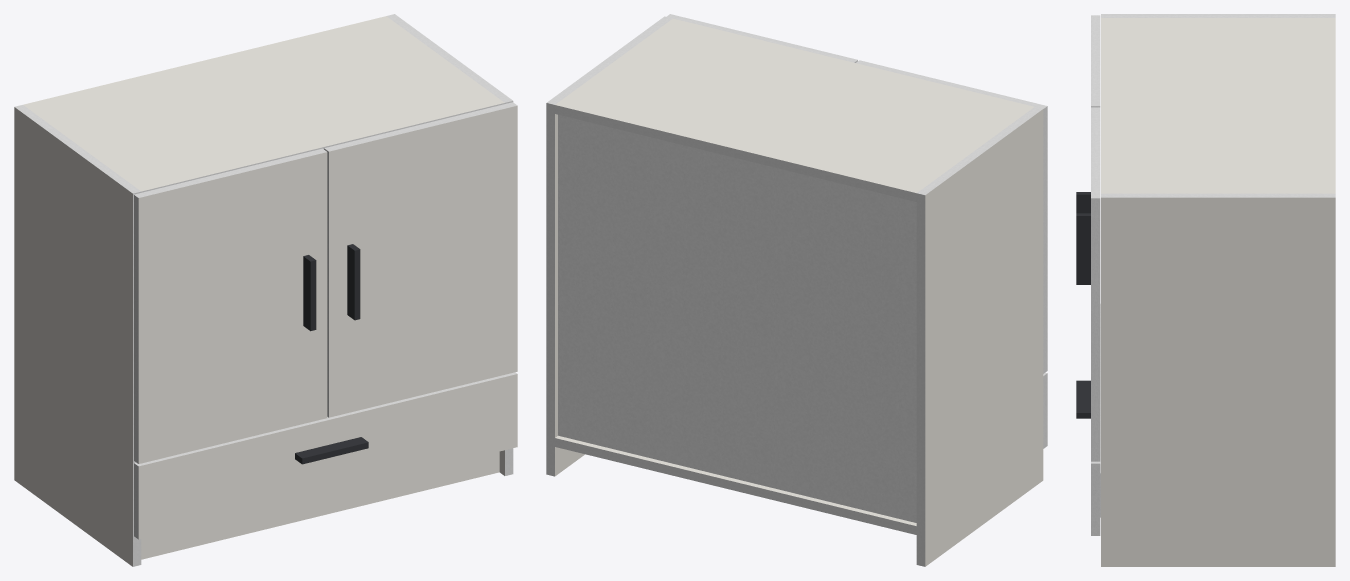
The model's file is LIT-CAB-std.glb.
3 renders of one model, left to right at view 1: azimuth 30°, elevation 25°; view 2: azimuth 150°, elevation 25°; view 3: azimuth 270°, elevation 25°, orthographic.
Visible parts, largest first — view 1: door-l:pbr, door-r:pbr, side-l:pbr, top:pbr, d1-front:pbr, plinth:pbr, pull, door-l:sheet:eyJtIjoibWRmIiwic2lkZSI6ImVkZ2UtbG9uZyIsInNlZWQ, d1-front:sheet:eyJtIjoibWRmIiwic2lkZSI6ImVkZ2UtbG9uZyIsInNlZ, side-l:sheet:eyJtIjoibWRmIiwic2lkZSI6ImVkZ2UtZW5kIiwic2VlZCI, side-r:sheet:eyJtIjoibWRmIiwic2lkZSI6ImVkZ2UtZW5kIiwic2VlZCI, door-l:sheet:eyJtIjoibWRmIiwic2lkZSI6ImVkZ2UtZW5kIiwic2VlZCI (+2 smaller); view 2: back:sheet:eyJtIjoibWRmIiwic2lkZSI6ImZhY2UiLCJzZWVkIjoyLCJ0a, side-l:pbr, top:pbr, side-l:sheet:eyJtIjoibWRmIiwic2lkZSI6ImVkZ2UtbG9uZyIsInNlZWQ, top:sheet:eyJtIjoibWRmIiwic2lkZSI6ImVkZ2UtbG9uZyIsInNlZWQiOj, bottom:sheet:eyJtIjoibWRmIiwic2lkZSI6ImVkZ2UtbG9uZyIsInNlZWQ, side-r:sheet:eyJtIjoibWRmIiwic2lkZSI6ImVkZ2UtbG9uZyIsInNlZWQ, side-r:pbr, bottom:pbr, door-l:sheet:eyJtIjoibWRmIiwic2lkZSI6ImVkZ2UtbG9uZyIsInNlZWQ, side-l:sheet:eyJtIjoibWRmIiwic2lkZSI6ImVkZ2UtZW5kIiwic2VlZCI, side-r:sheet:eyJtIjoibWRmIiwic2lkZSI6ImVkZ2UtZW5kIiwic2VlZCI (+2 smaller); view 3: side-r:pbr, top:pbr, door-r:sheet:eyJtIjoibWRmIiwic2lkZSI6ImVkZ2UtbG9uZyIsInNlZWQ, pull, side-r:sheet:eyJtIjoibWRmIiwic2lkZSI6ImVkZ2UtZW5kIiwic2VlZCI, side-l:sheet:eyJtIjoibWRmIiwic2lkZSI6ImVkZ2UtZW5kIiwic2VlZCI, door-l:sheet:eyJtIjoibWRmIiwic2lkZSI6ImVkZ2UtZW5kIiwic2VlZCI, door-r:sheet:eyJtIjoibWRmIiwic2lkZSI6ImVkZ2UtZW5kIiwic2VlZCI, d1-front:sheet:eyJtIjoibWRmIiwic2lkZSI6ImVkZ2UtZW5kIiwic2VlZ.
Part boxes in pixels (x1,y1,x2,y2): door-l:pbr: (138, 152, 327, 463); door-r:pbr: (329, 105, 517, 417); side-l:pbr: (14, 107, 132, 566); top:pbr: (23, 16, 504, 191); d1-front:pbr: (138, 374, 517, 539); plinth:pbr: (141, 451, 499, 559); pull: (295, 244, 368, 464); door-l:sheet:eyJtIjoibWRmIiwic2lkZSI6ImVkZ2UtbG9uZyIsInNlZWQ: (134, 195, 138, 463); d1-front:sheet:eyJtIjoibWRmIiwic2lkZSI6ImVkZ2UtbG9uZyIsInNlZ: (134, 372, 517, 466); side-l:sheet:eyJtIjoibWRmIiwic2lkZSI6ImVkZ2UtZW5kIiwic2VlZCI: (14, 105, 140, 193); side-r:sheet:eyJtIjoibWRmIiwic2lkZSI6ImVkZ2UtZW5kIiwic2VlZCI: (386, 14, 512, 102); door-l:sheet:eyJtIjoibWRmIiwic2lkZSI6ImVkZ2UtZW5kIiwic2VlZCI: (134, 148, 326, 197); back:sheet:eyJtIjoibWRmIiwic2lkZSI6ImZhY2UiLCJzZWVkIjoyLCJ0a: (558, 114, 916, 522); side-l:pbr: (925, 109, 1043, 566); top:pbr: (555, 18, 1034, 193); side-l:sheet:eyJtIjoibWRmIiwic2lkZSI6ImVkZ2UtbG9uZyIsInNlZWQ: (916, 193, 925, 566); top:sheet:eyJtIjoibWRmIiwic2lkZSI6ImVkZ2UtbG9uZyIsInNlZWQiOj: (555, 105, 916, 201); bottom:sheet:eyJtIjoibWRmIiwic2lkZSI6ImVkZ2UtbG9uZyIsInNlZWQ: (555, 438, 916, 534); side-r:sheet:eyJtIjoibWRmIiwic2lkZSI6ImVkZ2UtbG9uZyIsInNlZWQ: (546, 103, 554, 476); side-r:pbr: (555, 114, 584, 476); bottom:pbr: (555, 435, 916, 525); door-l:sheet:eyJtIjoibWRmIiwic2lkZSI6ImVkZ2UtbG9uZyIsInNlZWQ: (1043, 106, 1047, 373); side-l:sheet:eyJtIjoibWRmIiwic2lkZSI6ImVkZ2UtZW5kIiwic2VlZCI: (917, 107, 1042, 194); side-r:sheet:eyJtIjoibWRmIiwic2lkZSI6ImVkZ2UtZW5kIiwic2VlZCI: (547, 16, 672, 104); side-r:pbr: (1101, 197, 1335, 566); top:pbr: (1101, 18, 1335, 193); door-r:sheet:eyJtIjoibWRmIiwic2lkZSI6ImVkZ2UtbG9uZyIsInNlZWQ: (1091, 198, 1100, 461); pull: (1076, 192, 1090, 418); side-r:sheet:eyJtIjoibWRmIiwic2lkZSI6ImVkZ2UtZW5kIiwic2VlZCI: (1101, 193, 1335, 197); side-l:sheet:eyJtIjoibWRmIiwic2lkZSI6ImVkZ2UtZW5kIiwic2VlZCI: (1101, 14, 1335, 17); door-l:sheet:eyJtIjoibWRmIiwic2lkZSI6ImVkZ2UtZW5kIiwic2VlZCI: (1091, 15, 1100, 106); door-r:sheet:eyJtIjoibWRmIiwic2lkZSI6ImVkZ2UtZW5kIiwic2VlZCI: (1091, 107, 1100, 198); d1-front:sheet:eyJtIjoibWRmIiwic2lkZSI6ImVkZ2UtZW5kIiwic2VlZ: (1091, 463, 1100, 535).
Bounding box in the file's own units: 0.8 × 0.75 × 0.4769.
55 materials, 42 textured.
